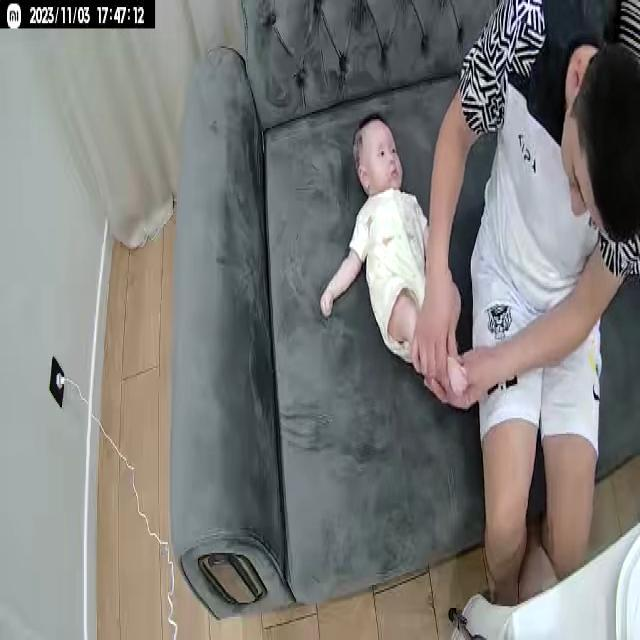baby: (318, 112, 470, 403)
